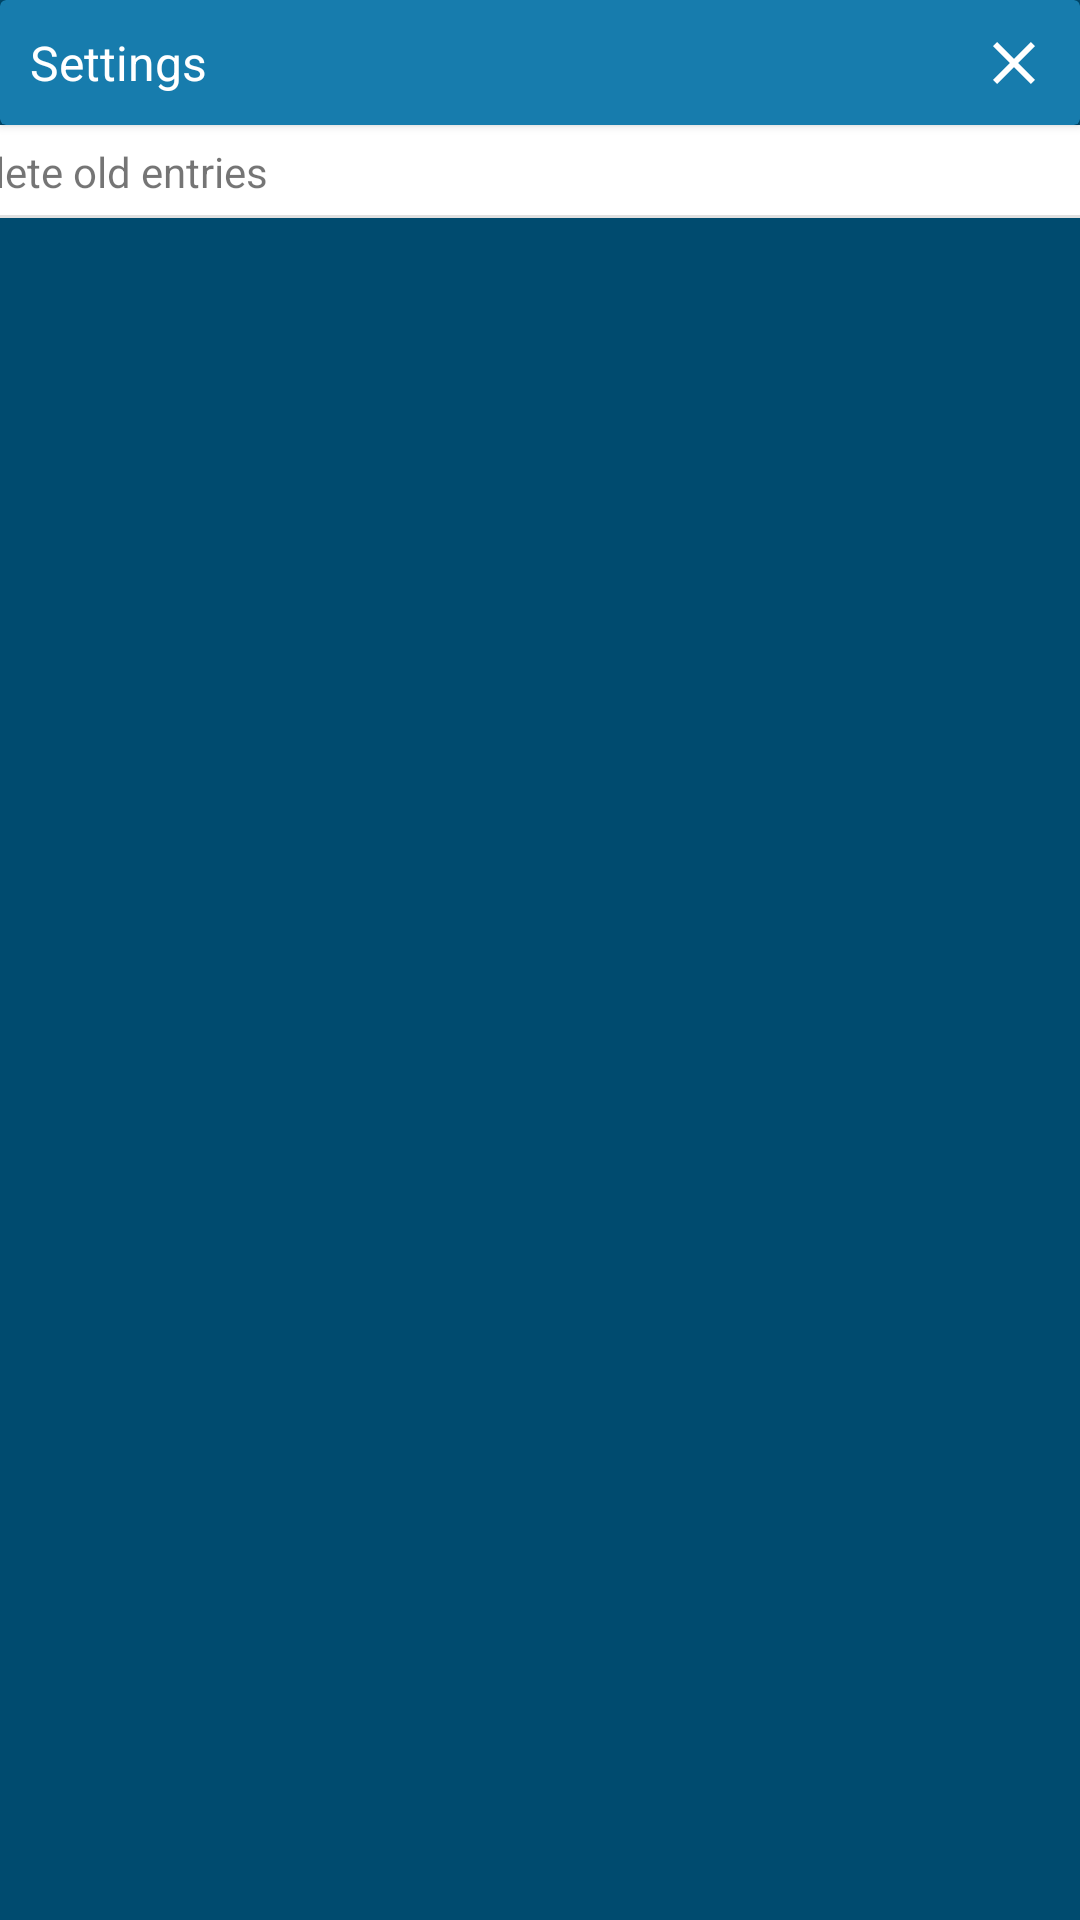

Point at icon controls on the screen. Image size 1080*1920, points as [x,y].
close: [1014,63]
